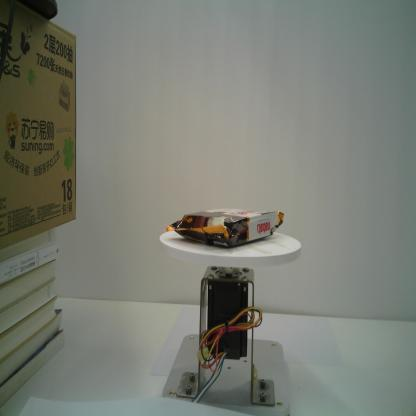Dessert: (164, 204, 286, 249)
